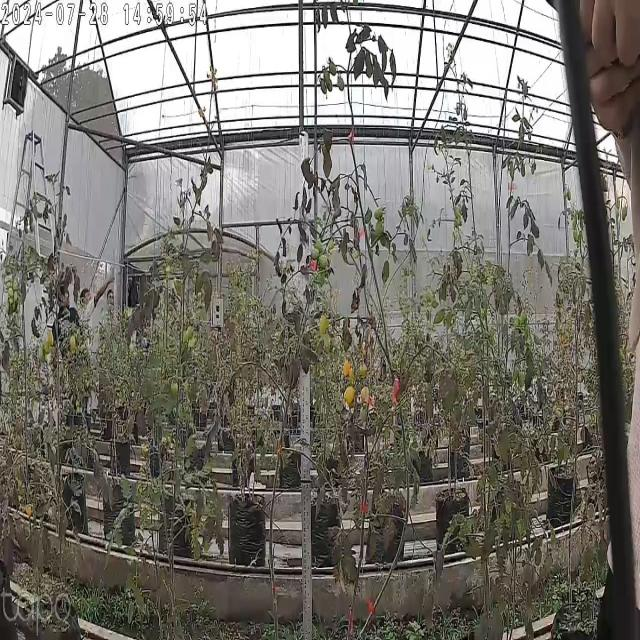fine: (345, 385, 354, 408), (343, 359, 351, 378)
unripe: (319, 312, 328, 339), (318, 253, 328, 270)
